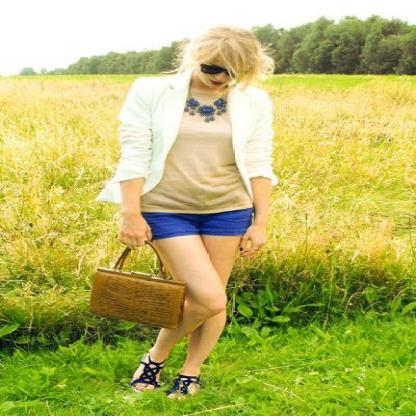bag: (92, 241, 194, 330)
jacket: (96, 75, 276, 202)
shirt: (139, 79, 252, 214)
shoe: (137, 358, 201, 394)
shorts: (141, 208, 255, 239)
sunglass: (201, 63, 229, 76)
